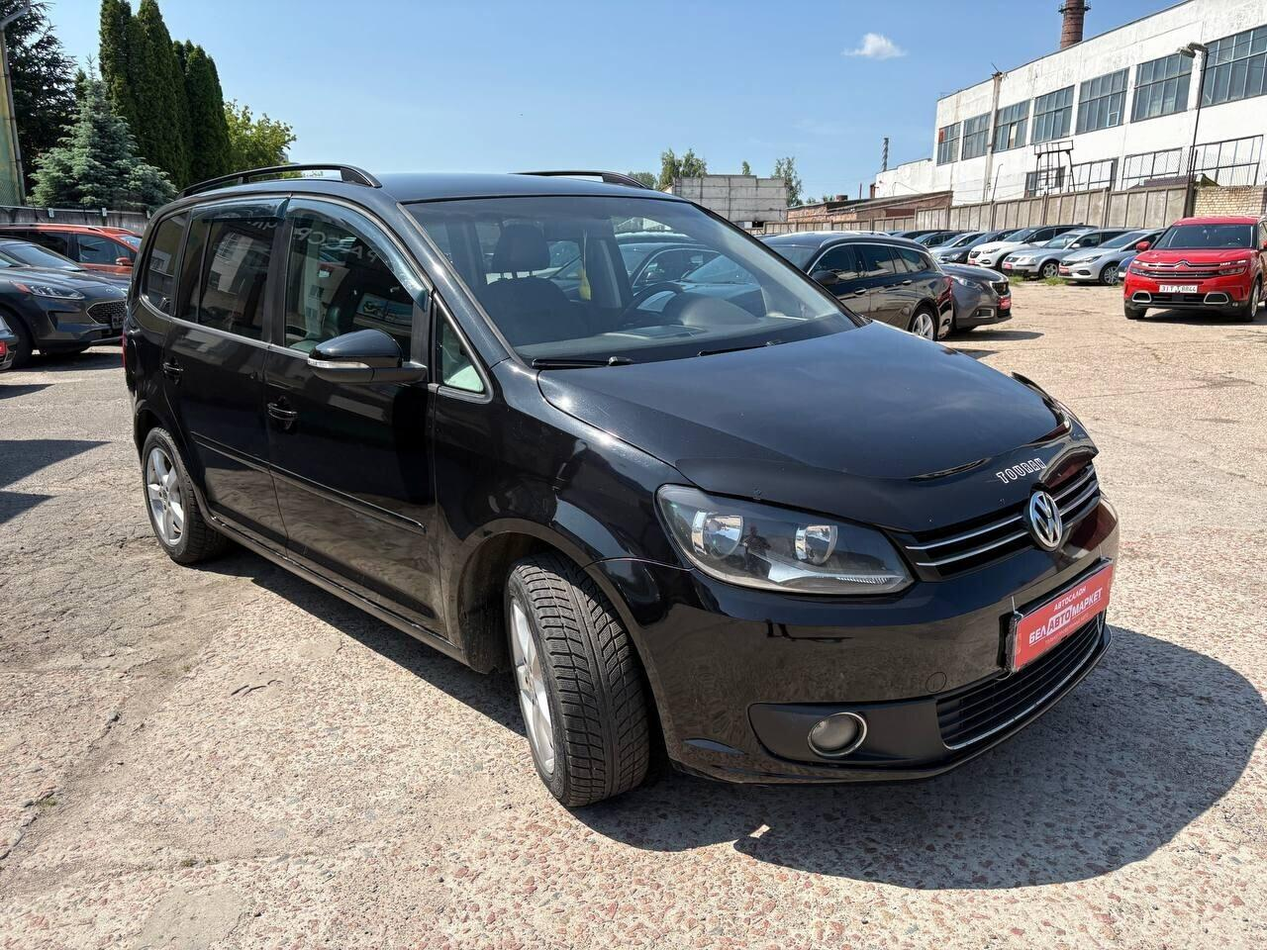Touran_2010-2015: (114, 172, 1121, 825)
